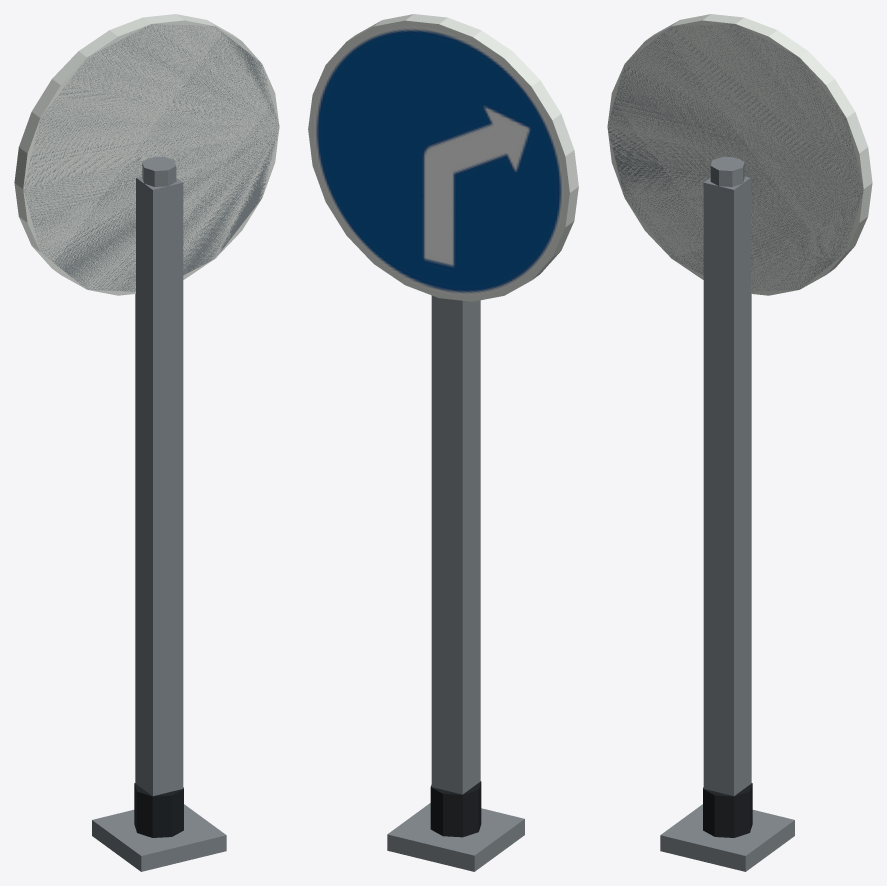
File: direction-sign-r.glb
3 renders of one model, left to right at view 1: azimuth 30°, elevation 25°; view 2: azimuth 150°, elevation 25°; view 3: azimuth 330°, elevation 25°, orthographic. The views are drawn at different scales.
Visible parts, largest first — view 1: direction-sign-r (×2); view 2: direction-sign-r (×2); view 3: direction-sign-r (×2).
Boxes of the visible parts, x1,y1,x2,y2 form: direction-sign-r (×2): (14, 14, 279, 871); direction-sign-r (×2): (308, 14, 578, 871); direction-sign-r (×2): (607, 14, 872, 871).
Bounding box in the file's own units: 2.35 × 7.14 × 0.784.
4 materials, 1 textured.
